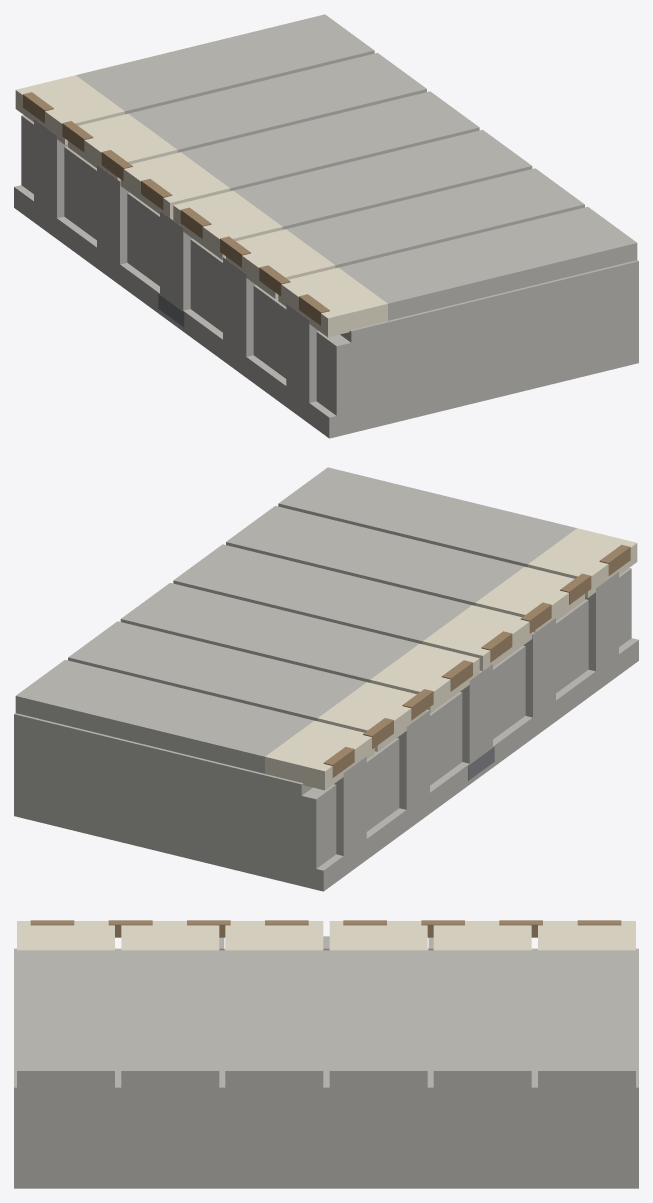
File: steam-era-railway-and-rolling-stock-platform-module-e0cc0aef.glb
The picture shows the model from 3 angles, top to bottom: view 1: azimuth 30°, elevation 25°; view 2: azimuth 150°, elevation 25°; view 3: azimuth 270°, elevation 25°; orthographic projection.
Visible parts, largest first — view 1: platform-module; view 2: platform-module; view 3: platform-module.
Part boxes in pixels (box(x1,y1,x2,y2)): platform-module: box(14, 14, 638, 438); platform-module: box(14, 467, 638, 891); platform-module: box(14, 920, 638, 1188).
Size of the model in its own units: 3.4 by 1.26 by 6.
